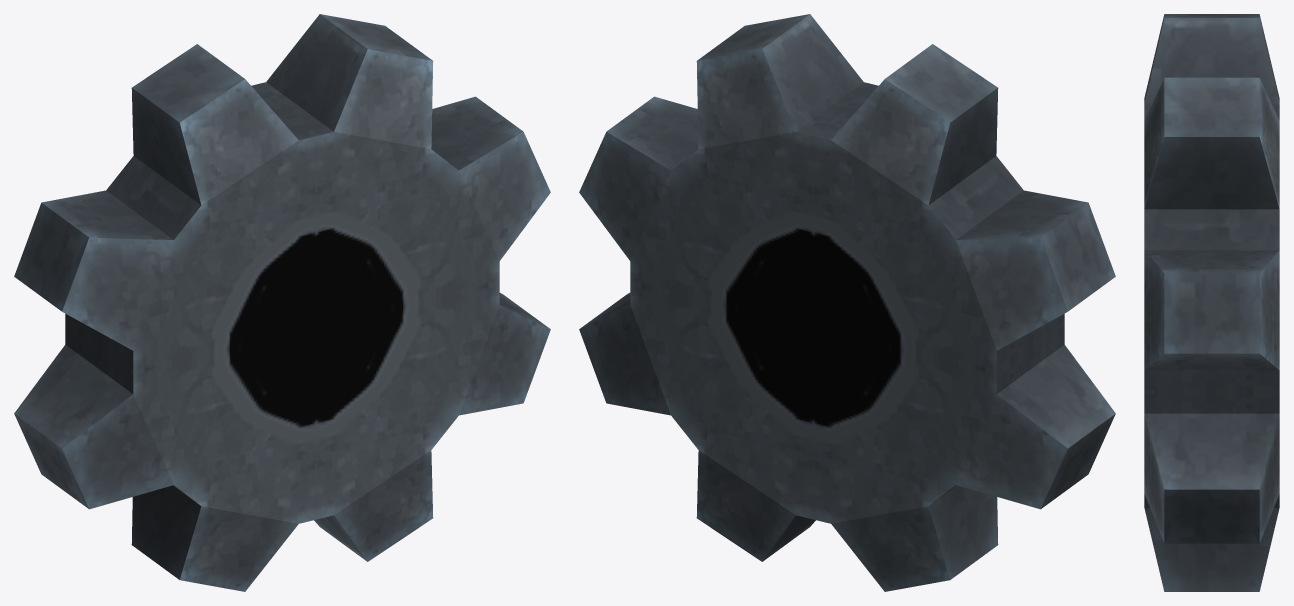
File: FB_Dixiashuidao_chilunK.FBX
3 views of the same model, side by side, from view 1: azimuth 30°, elevation 25°; view 2: azimuth 150°, elevation 25°; view 3: azimuth 270°, elevation 25° (orthographic).
Parts seen in each view (by area): view 1: Object08; view 2: Object08; view 3: Object08.
Part boxes in pixels (left/top/right/bottom): Object08: left=14, top=14, right=550, bottom=591; Object08: left=579, top=14, right=1115, bottom=591; Object08: left=1144, top=14, right=1279, bottom=591.
Size of the model in its own units: 2.27 by 2.28 by 0.5456.
